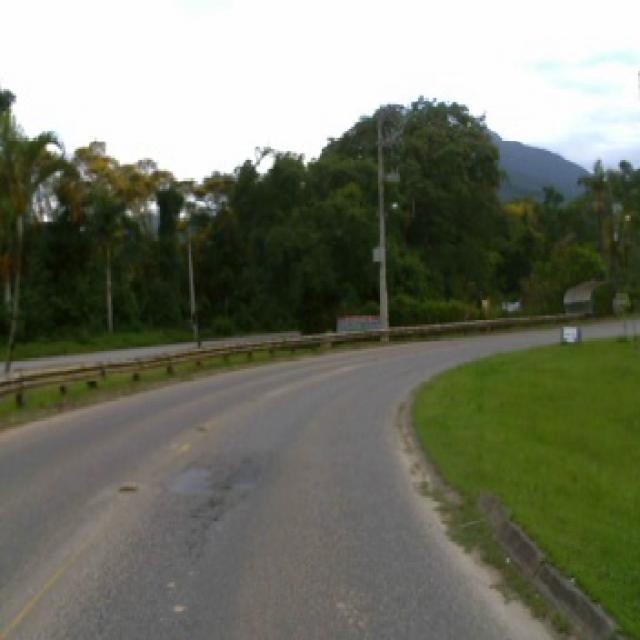Poth-hole: (165, 453, 260, 567), (114, 478, 140, 491), (193, 422, 209, 431)
